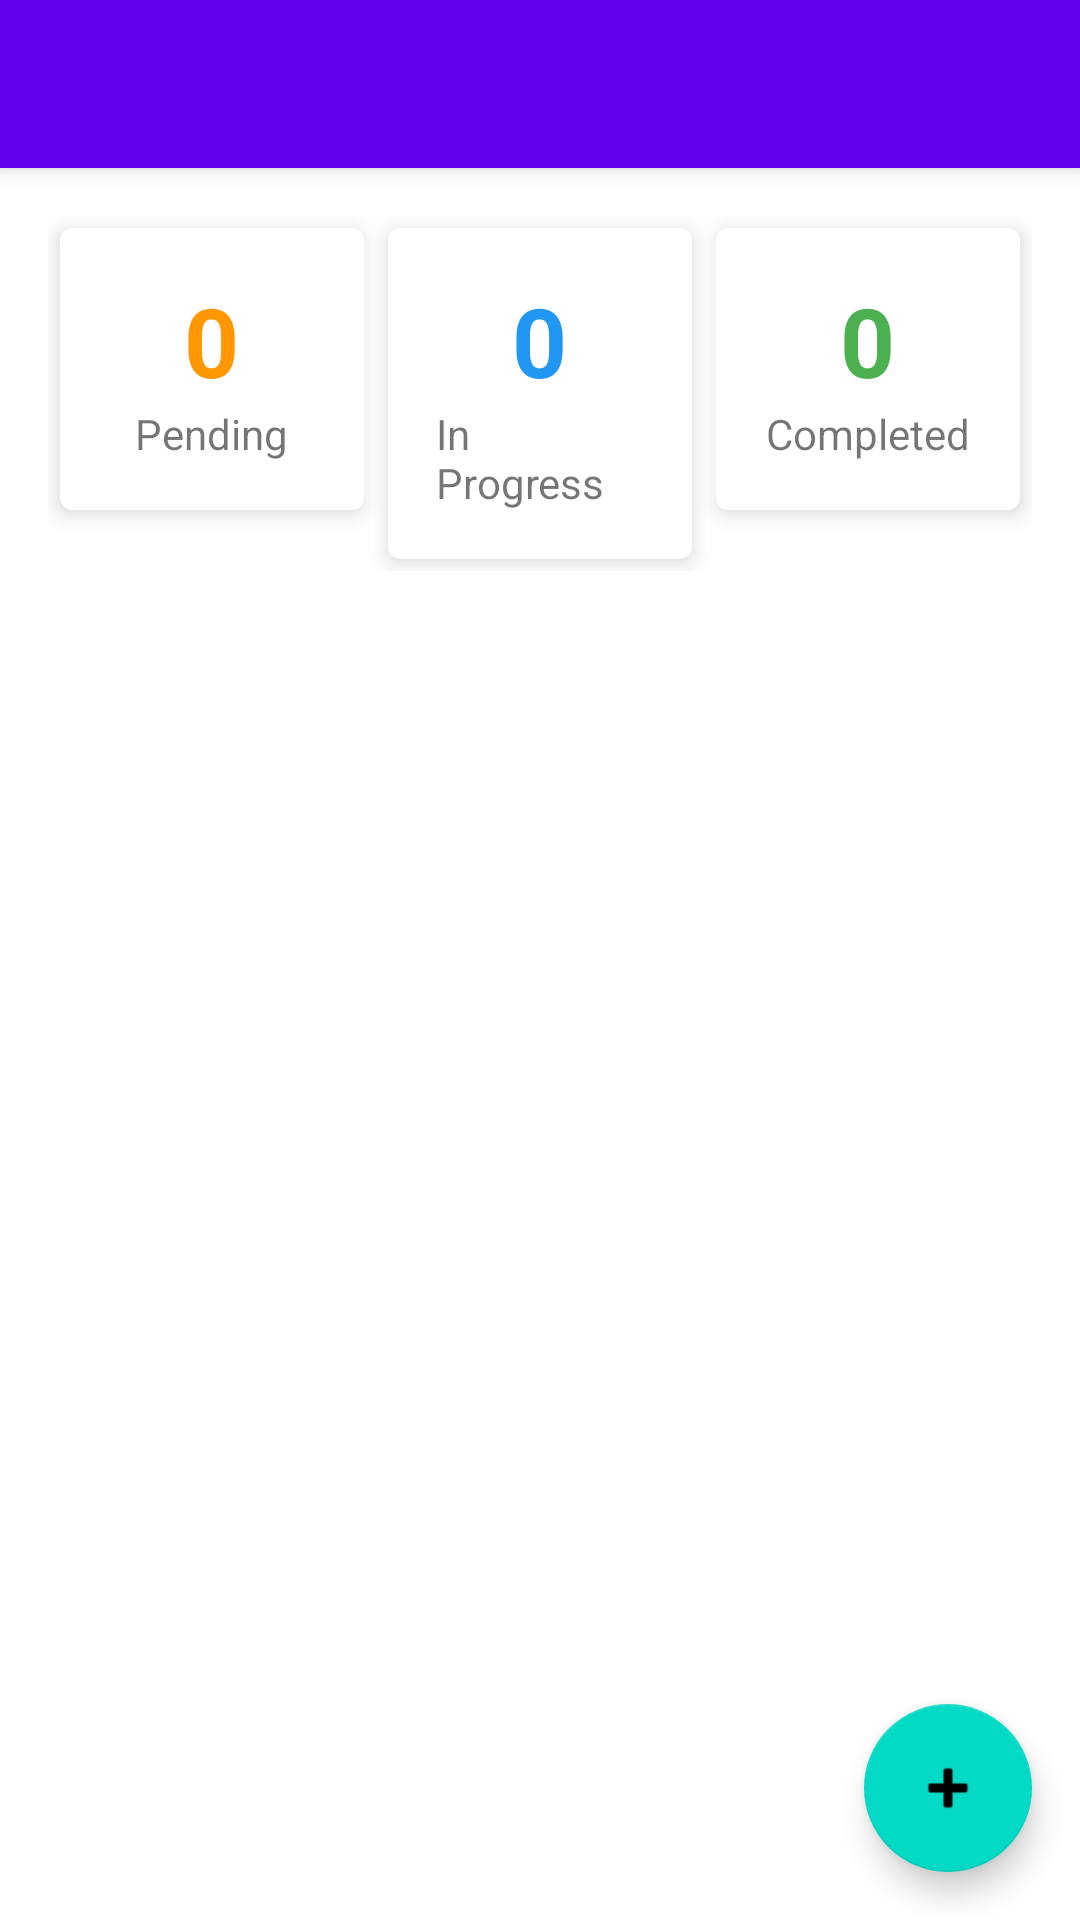

Where icons sit on this 1080 × 1920 app screen, as {"left": x1, "top": y1, "right": x2, "bottom": y2}:
Add Task: {"left": 864, "top": 1704, "right": 1032, "bottom": 1872}
